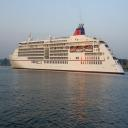cruises: (7, 22, 126, 77)
